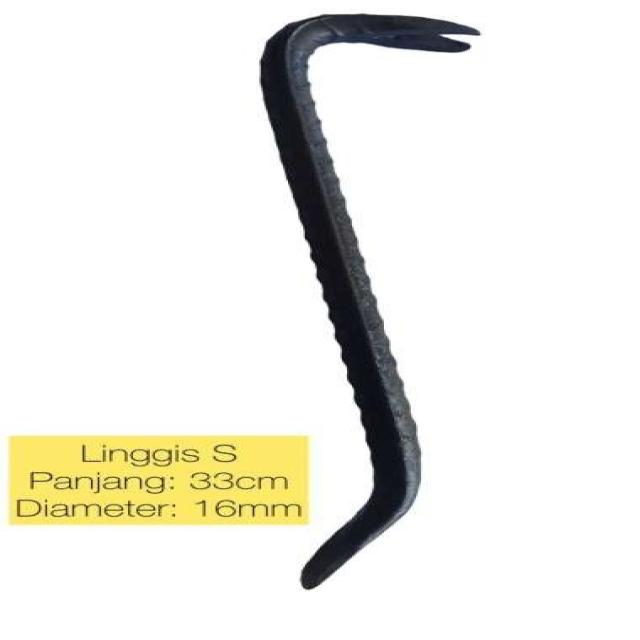Linggis: (259, 11, 485, 592)
